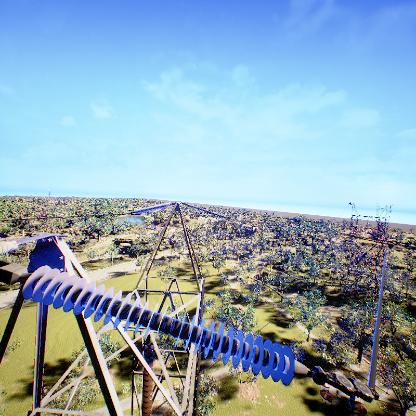insulator: (16, 262, 298, 386), (133, 201, 175, 216)
